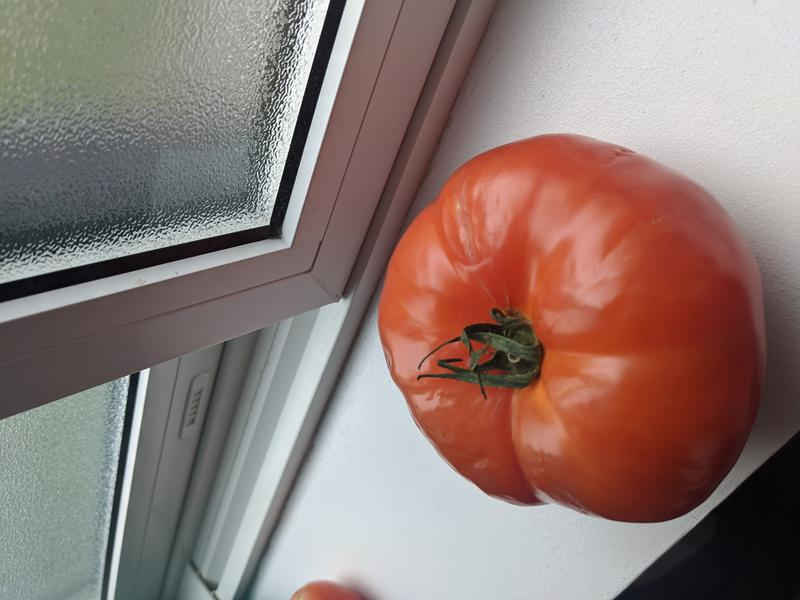tomato: (377, 133, 769, 524)
